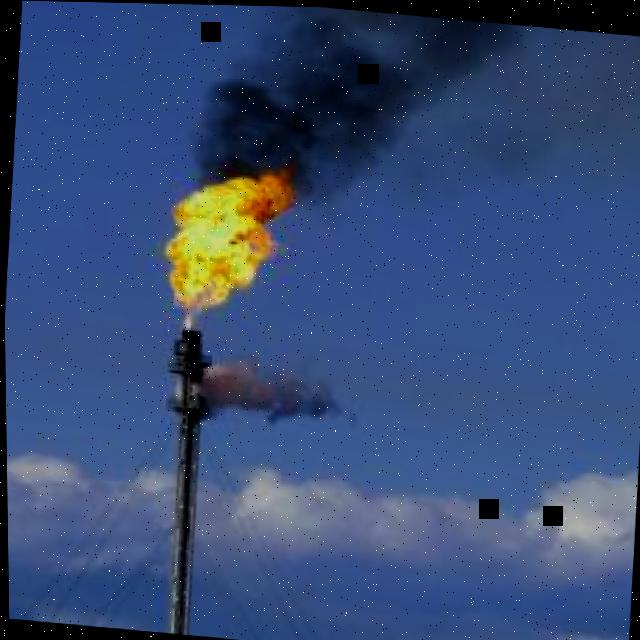fire: (163, 159, 303, 325)
smoke: (190, 4, 640, 208), (187, 350, 356, 425), (173, 379, 180, 395)
